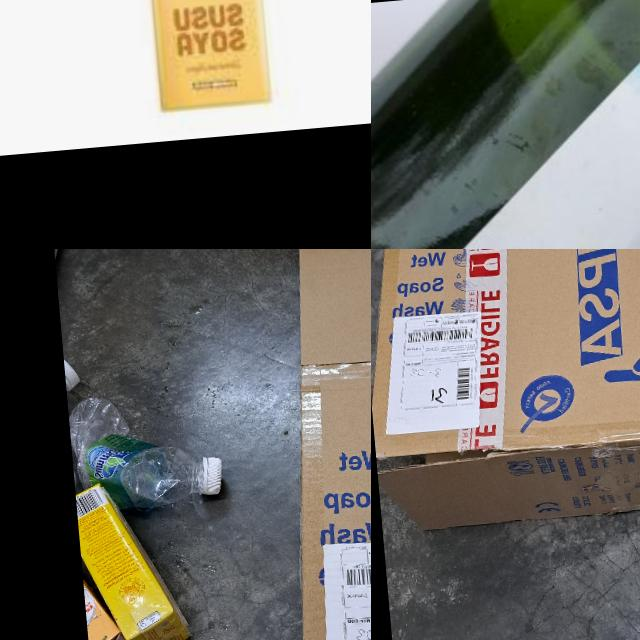caixinha: (74, 475, 194, 640), (133, 0, 271, 111), (82, 568, 135, 640)
garrafa de vidro: (371, 0, 640, 249)
garrafa plástica: (68, 388, 208, 513)
papelão: (371, 249, 640, 634), (252, 249, 371, 640)
tampa plástica: (200, 456, 226, 496), (64, 353, 82, 390)
